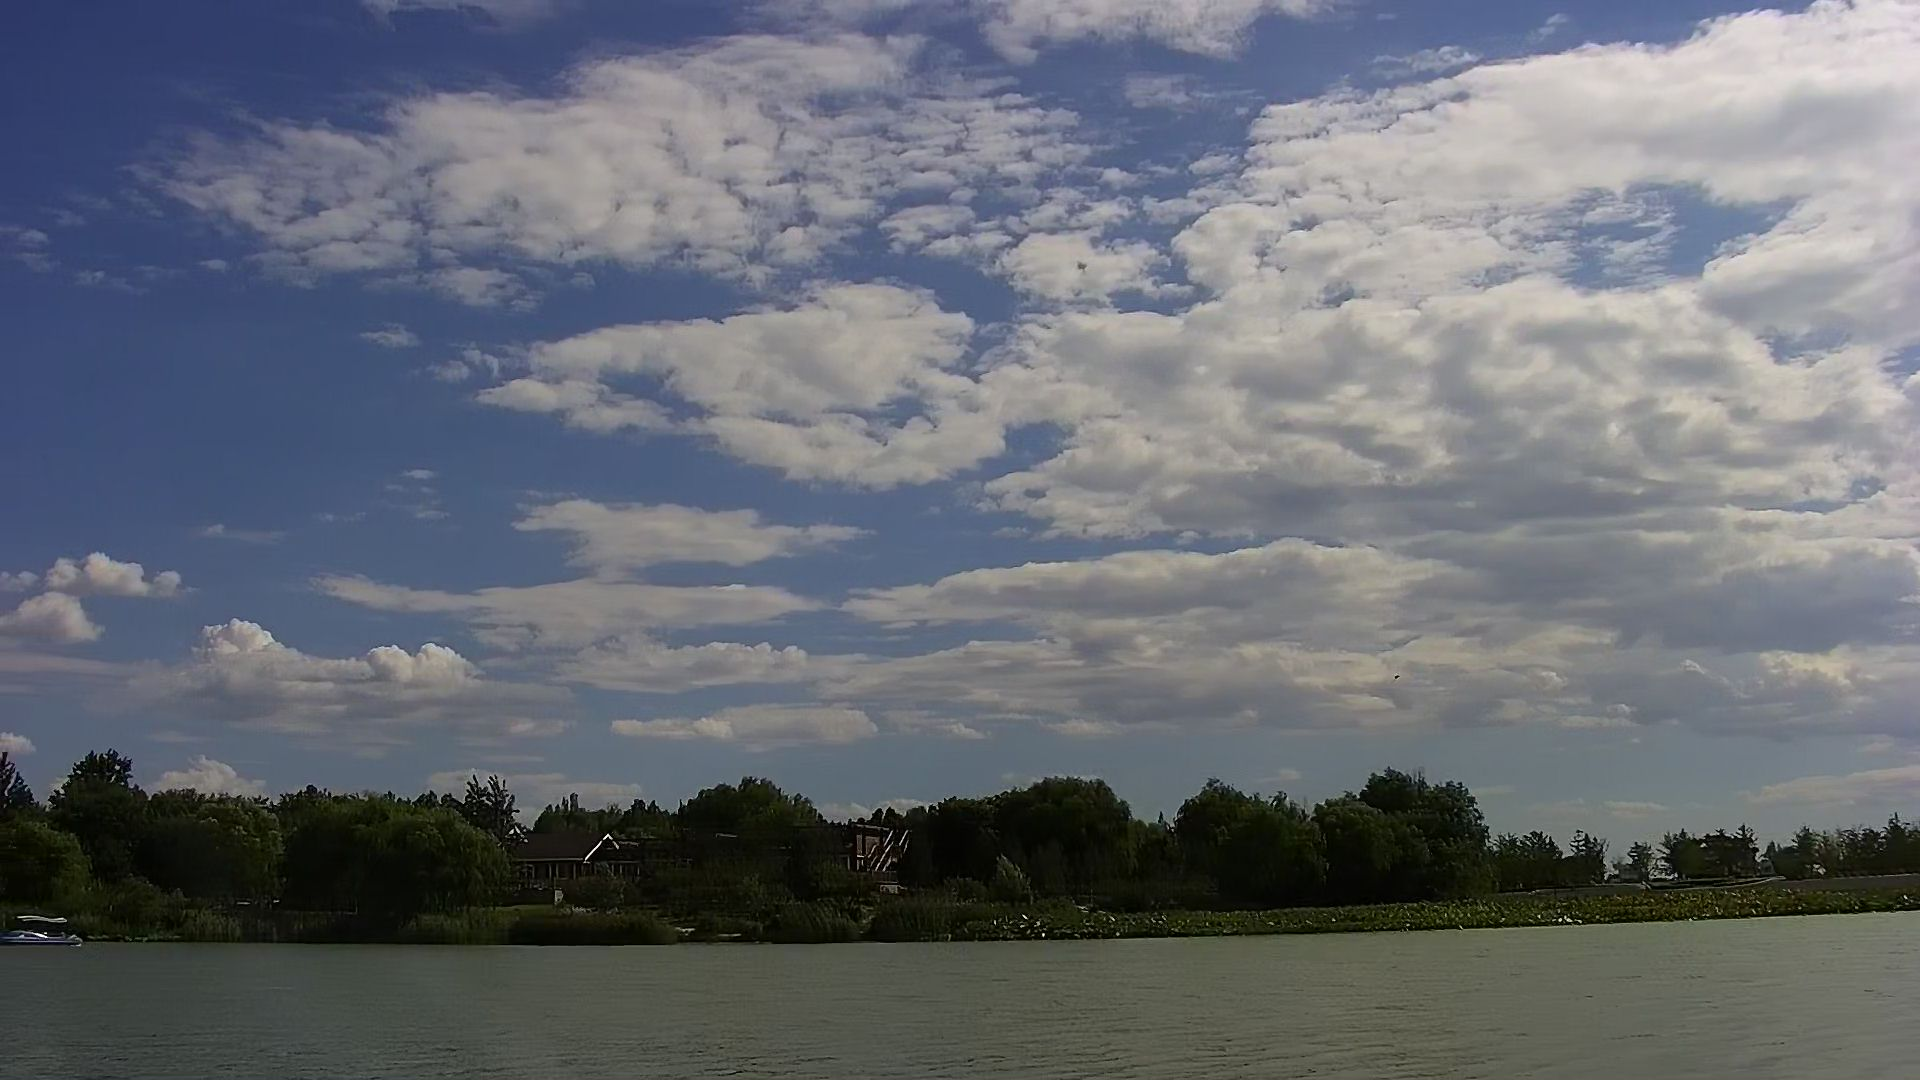boat: (5, 906, 87, 949)
